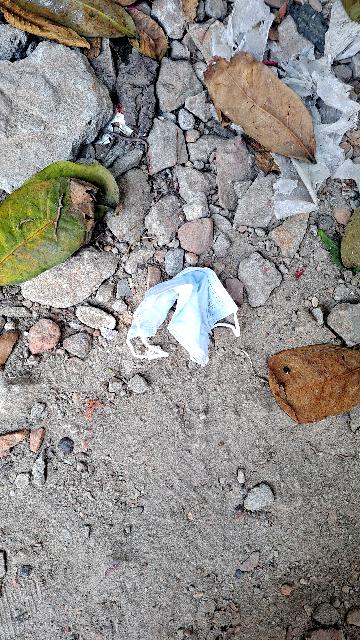mask: (127, 251, 256, 371)
